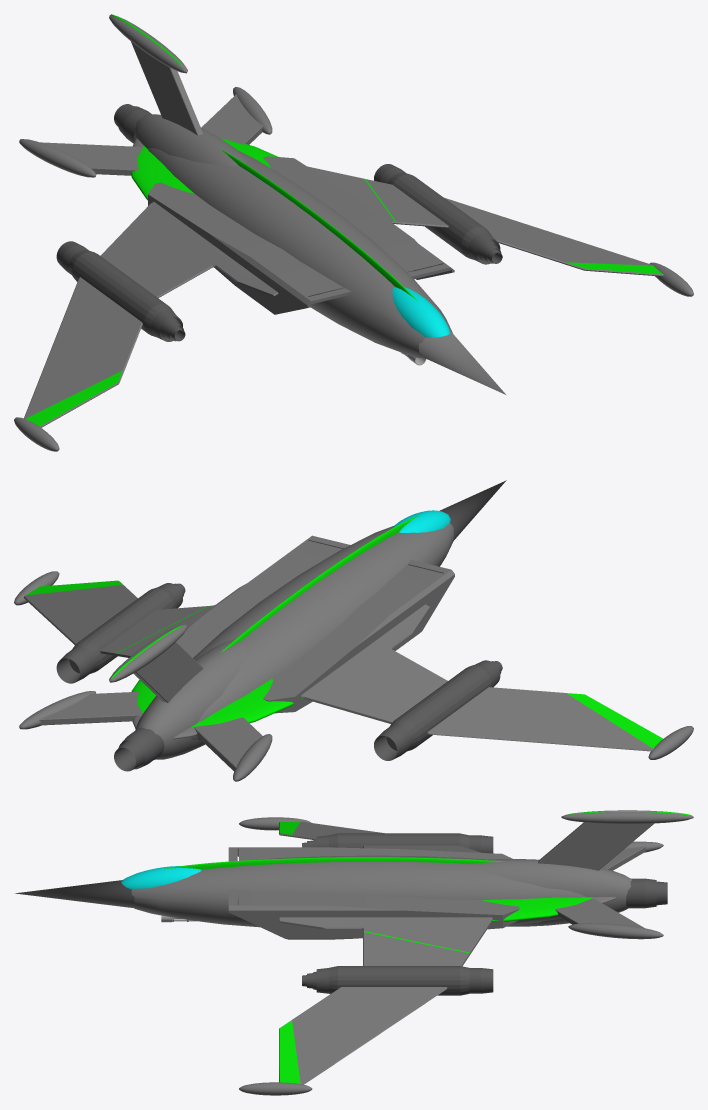
Rendered from Anaconda2.fbx.
3 renders of one model, top to bottom at view 1: azimuth 30°, elevation 25°; view 2: azimuth 150°, elevation 25°; view 3: azimuth 270°, elevation 25°, orthographic. The views are drawn at different scales.
Parts seen in each view (by area): view 1: polySurface71; view 2: polySurface71; view 3: polySurface71.
Boxes of the visible parts, bbox=[...] form: polySurface71: bbox=[14, 14, 693, 451]; polySurface71: bbox=[14, 480, 693, 781]; polySurface71: bbox=[15, 810, 693, 1095].
Bounding box in the file's own units: 505 × 131 × 535.
